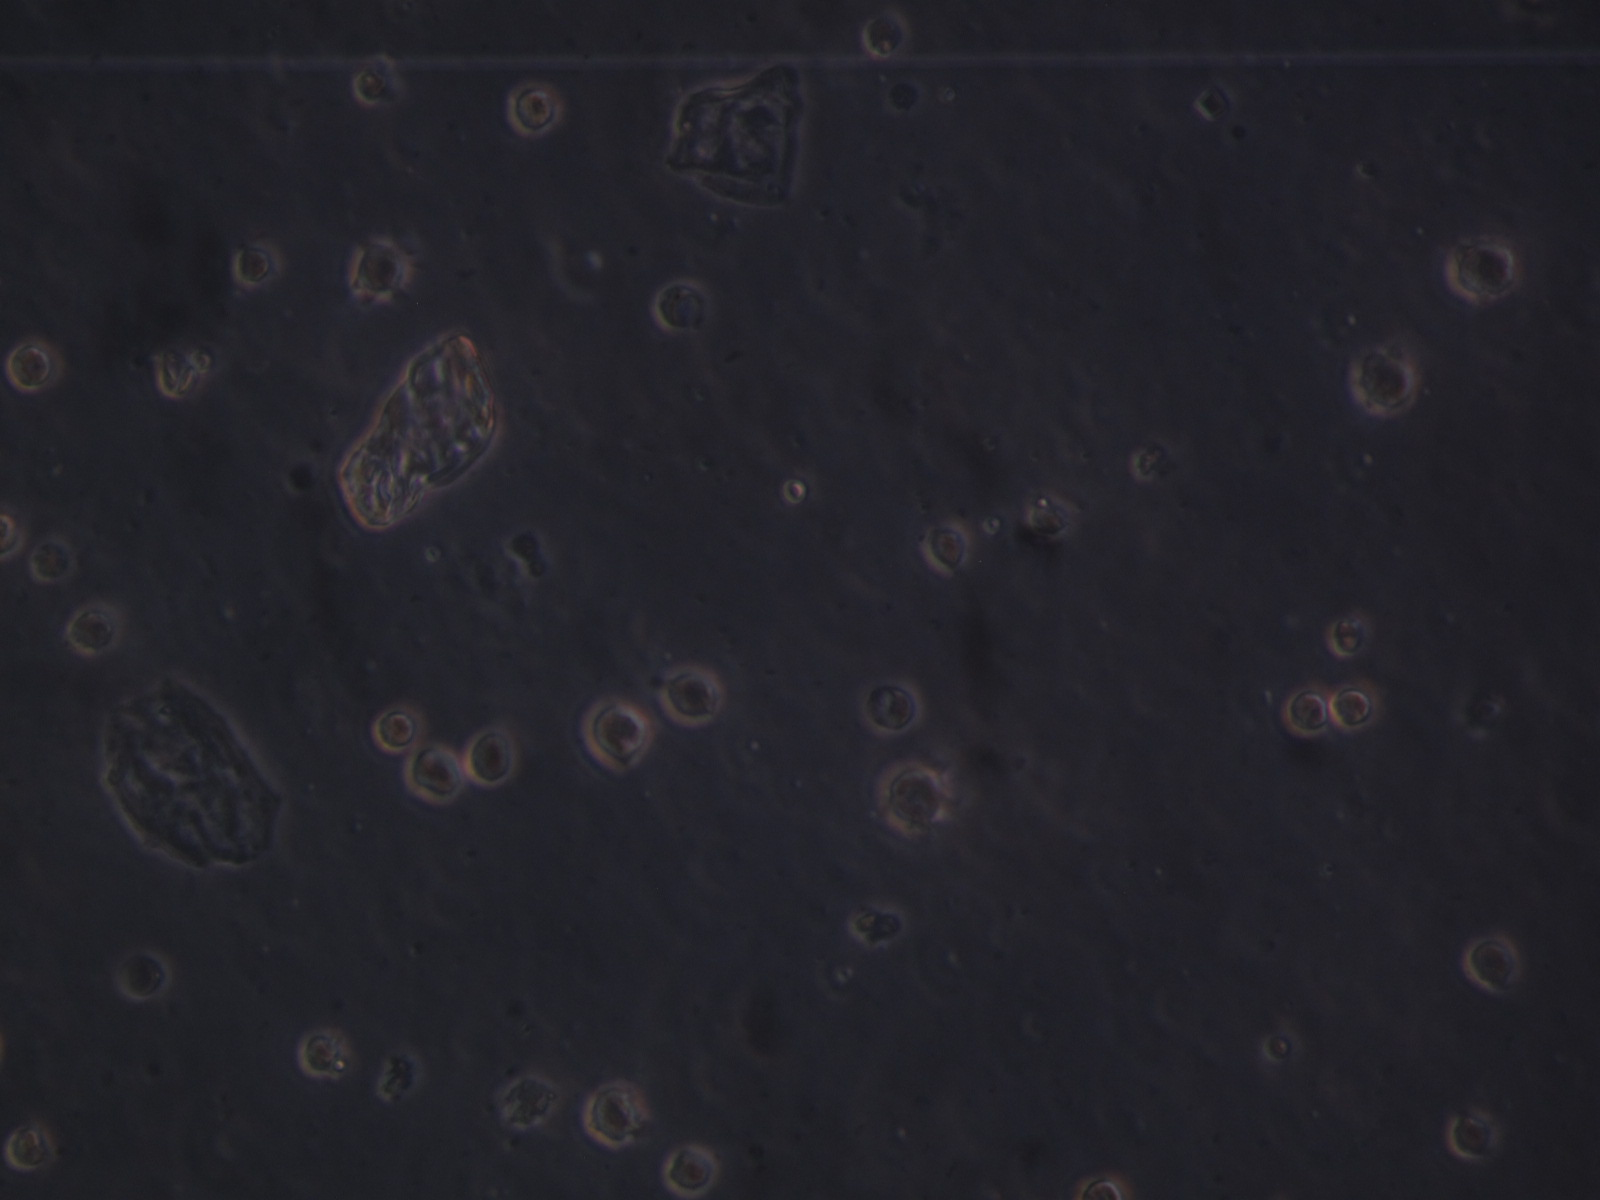hemo: (577, 695, 653, 776), (877, 759, 950, 833), (1445, 237, 1522, 304), (1351, 347, 1419, 418), (585, 1078, 651, 1151), (656, 668, 724, 730), (348, 236, 411, 300), (860, 676, 925, 737), (1461, 934, 1521, 995), (404, 746, 464, 807), (499, 1075, 563, 1129), (116, 944, 175, 1002), (658, 1142, 721, 1196), (504, 82, 563, 137), (66, 599, 121, 655), (466, 725, 515, 788), (920, 518, 969, 577), (231, 236, 282, 291), (8, 340, 60, 393), (654, 279, 707, 332), (1448, 1108, 1499, 1162), (370, 703, 423, 754), (1283, 686, 1330, 737), (863, 8, 910, 61), (30, 533, 79, 582), (1328, 684, 1378, 731), (295, 1027, 336, 1080), (6, 1126, 55, 1170), (1327, 614, 1374, 658), (1075, 1172, 1130, 1200), (1, 502, 26, 558), (351, 66, 387, 105)
